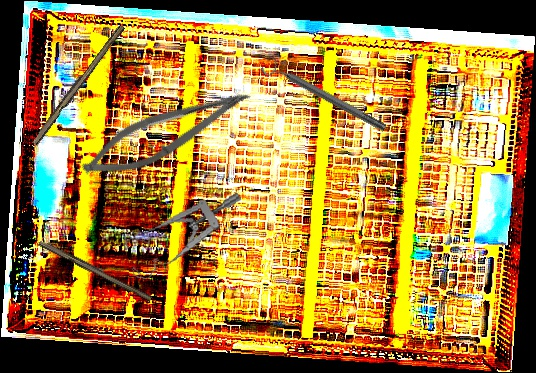Fixation Ring: (259, 53, 390, 139)
Micro Scissor: (73, 67, 258, 195)
Scalpel Handle: (29, 21, 126, 148), (37, 238, 154, 302)
Speculum: (118, 192, 251, 282)
